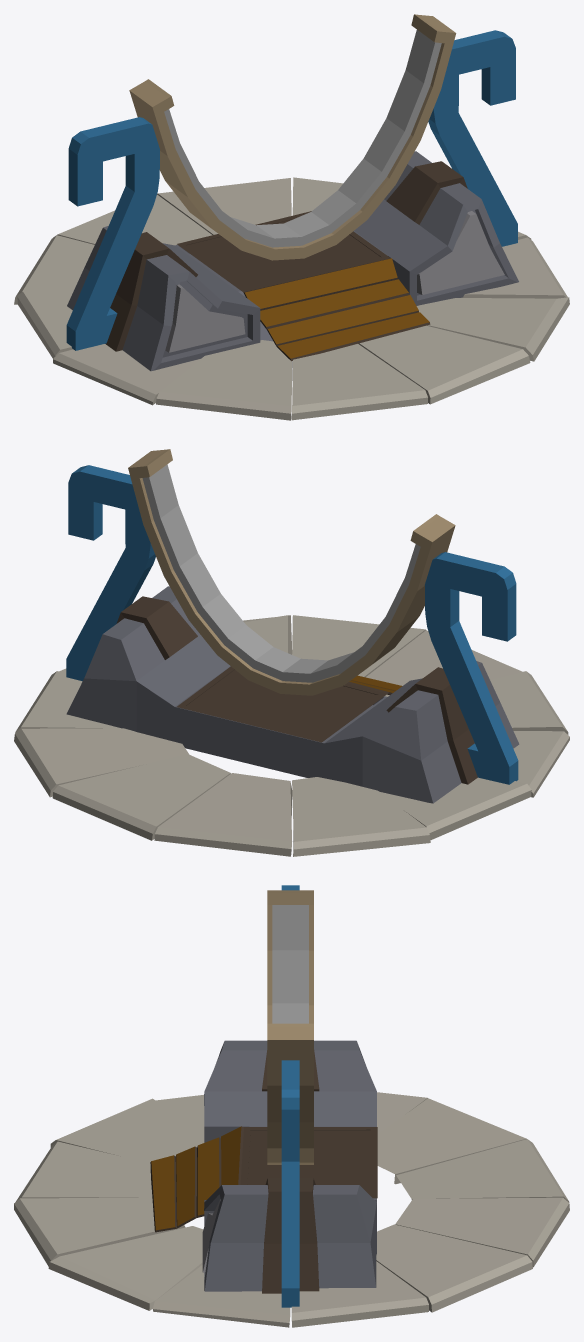
3 renders of one model, top to bottom at view 1: azimuth 30°, elevation 25°; view 2: azimuth 150°, elevation 25°; view 3: azimuth 270°, elevation 25°, orthographic.
Parts seen in each view (by area): view 1: Circle.008, Cube.004; view 2: Circle.008, Cube.004; view 3: Circle.008, Cube.004.
Part boxes in pixels (x1,y1,x2,y2): Circle.008: [14, 14, 569, 420]; Cube.004: [66, 30, 517, 350]; Circle.008: [14, 449, 569, 856]; Cube.004: [66, 465, 518, 784]; Circle.008: [14, 890, 569, 1327]; Cube.004: [281, 885, 299, 1307].
Bounding box in the file's own units: 163 × 81.46 × 162.
